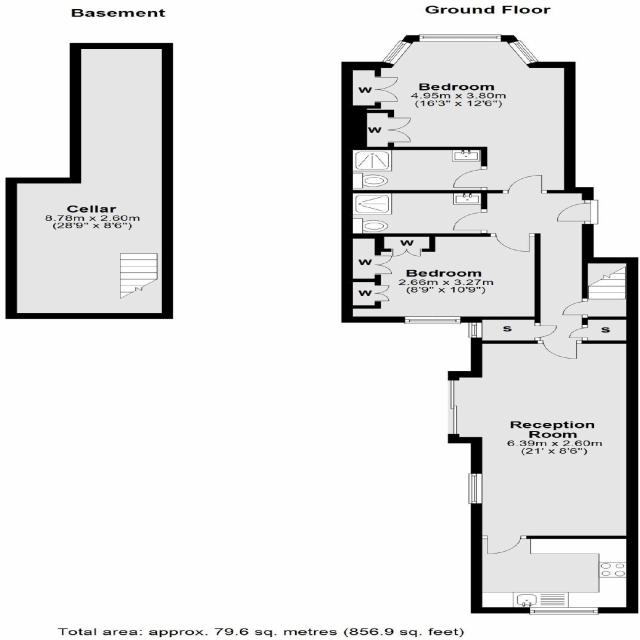DOOR: (469, 535, 639, 615), (552, 202, 595, 223), (449, 168, 491, 189), (449, 211, 491, 232), (539, 339, 579, 361), (505, 174, 546, 195), (493, 232, 533, 253), (484, 535, 524, 556)
ROOM: (443, 339, 640, 558), (336, 34, 578, 196), (336, 232, 544, 326)
SLIDING DOOR: (449, 379, 460, 435)
WINDOW: (378, 38, 416, 67), (505, 39, 542, 67), (415, 34, 504, 43), (403, 315, 462, 326), (528, 606, 600, 615), (466, 473, 485, 505), (467, 322, 484, 339)
